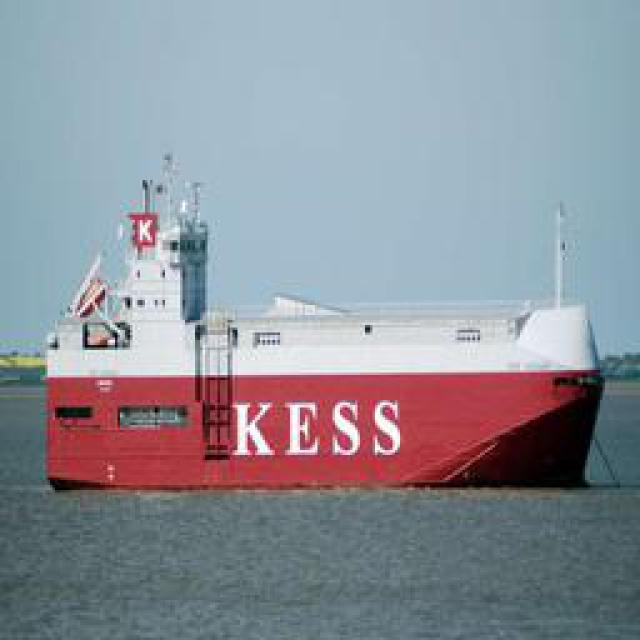Ship: (39, 140, 604, 495)
